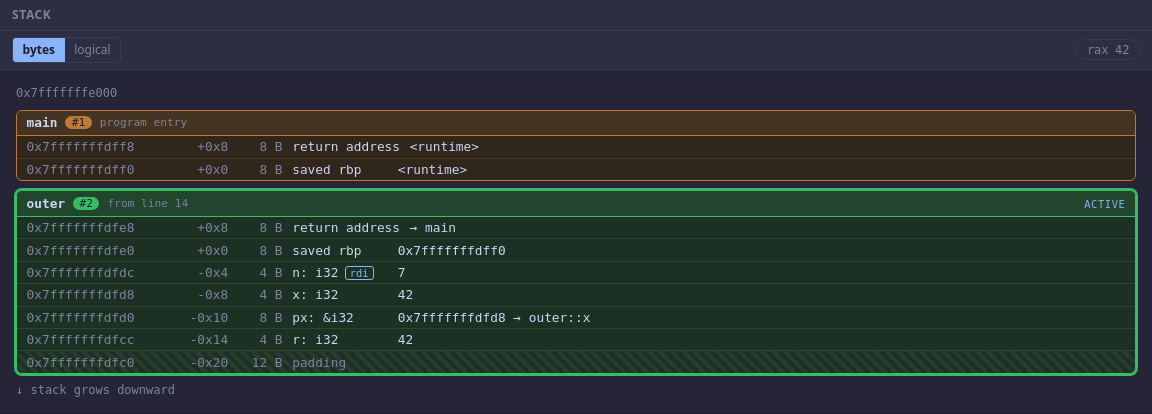
StackPane pop choreography › flashes the slot that just received rax after a let-call
The image size is (1152, 414).
Expected: the element with class "slot-landed" is shown, [17,328,1135,350]
Expected: the element with class "slot-landed" shows "r: i32", [292,332,338,347]
Click the button "logical" at (92, 50), box [65,38,120,62]
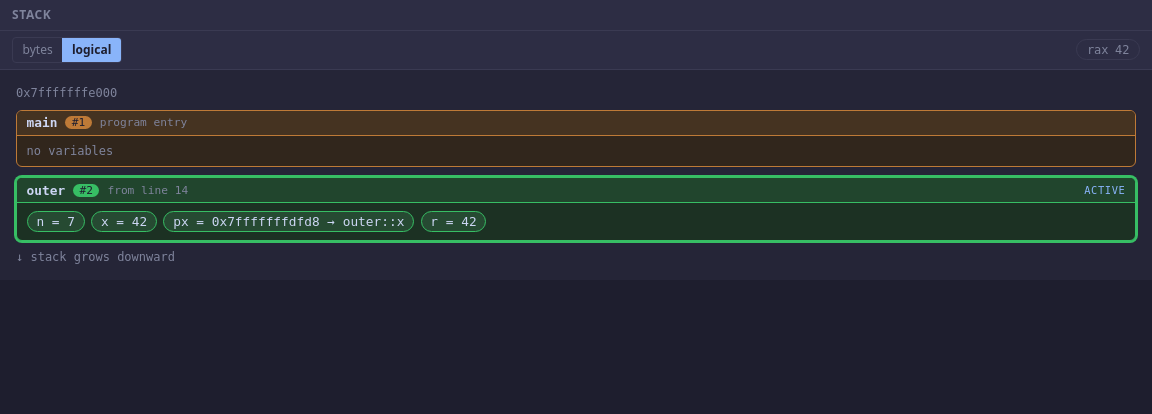
Now the text with class "chip-landed" reads "r = 42", box [420,211,486,232]
